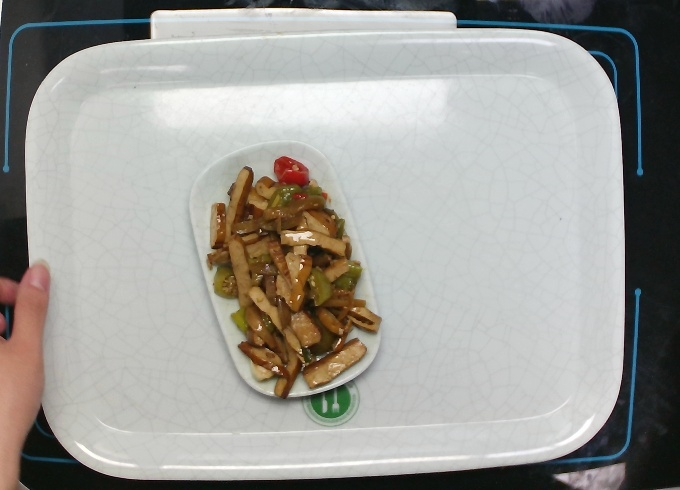WCQzf-Tuo_Yuan_Pan: (185, 137, 386, 404)
